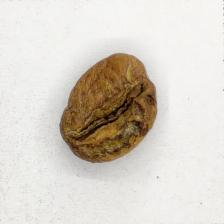NG: (76, 82, 154, 155)
